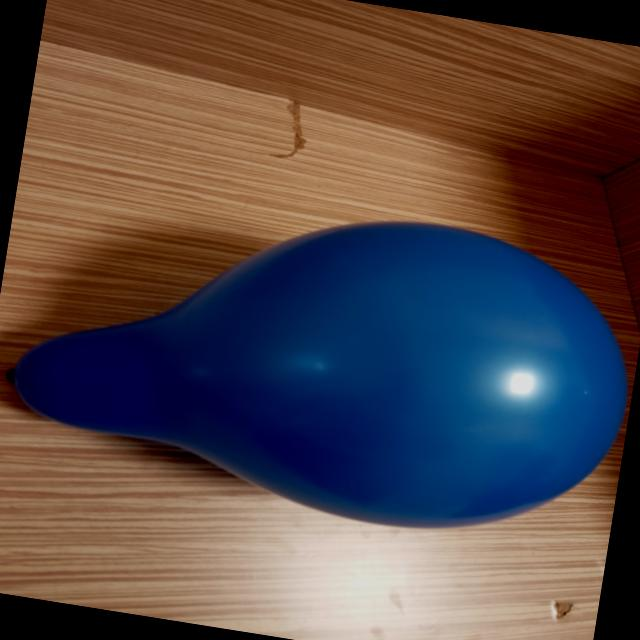balloon: (11, 222, 628, 528)
